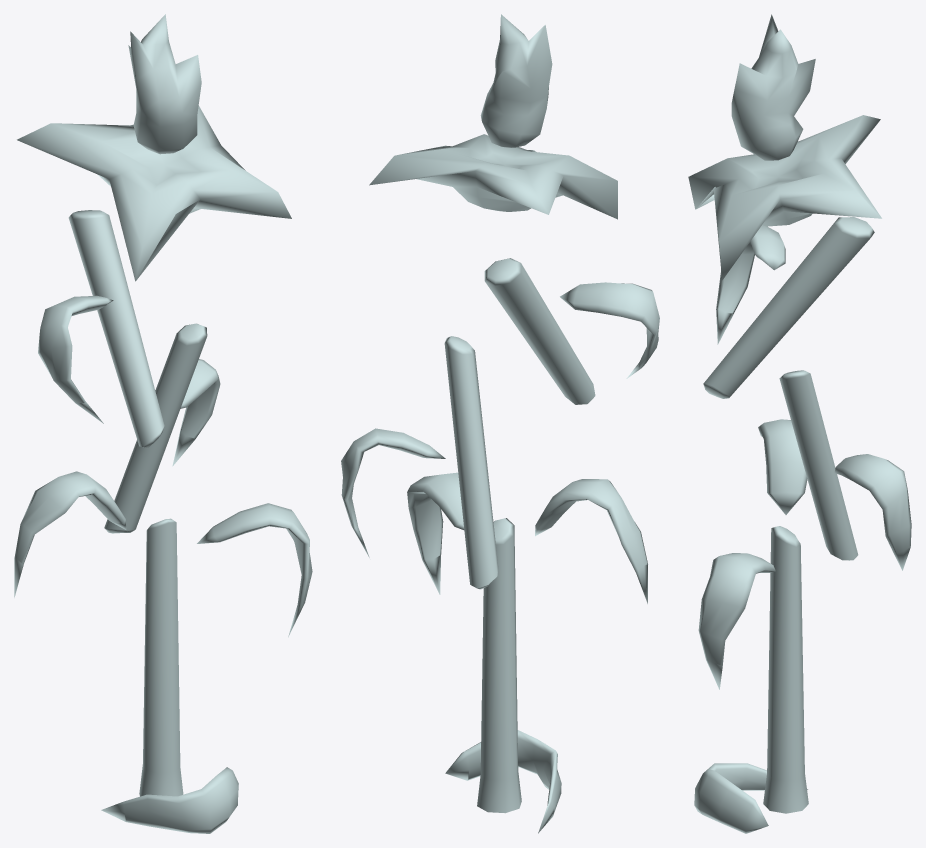
Rendered from cometPlant_stage4.fbx.
3 views of the same model, side by side, from view 1: azimuth 30°, elevation 25°; view 2: azimuth 150°, elevation 25°; view 3: azimuth 270°, elevation 25° (orthographic).
Visible parts, largest first — view 1: rotting_comet_stem, rotting_comet_openPod, rotting_comet_fruit, rotting_comet_leaf5, rotting_comet_leaf1, rotting_comet_leaf4, rotting_comet_leaf2, rotting_comet_leaf3; view 2: rotting_comet_stem, rotting_comet_openPod, rotting_comet_fruit, rotting_comet_leaf2, rotting_comet_leaf1, rotting_comet_leaf4, rotting_comet_leaf5, rotting_comet_leaf3; view 3: rotting_comet_stem, rotting_comet_openPod, rotting_comet_fruit, rotting_comet_leaf2, rotting_comet_leaf5, rotting_comet_leaf3, rotting_comet_leaf1, rotting_comet_leaf4.
Part boxes in pixels (<box>): rotting_comet_stem: <box>68,210,207,796</box>; rotting_comet_openPod: <box>17,105,291,281</box>; rotting_comet_fruit: <box>128,14,201,154</box>; rotting_comet_leaf5: <box>101,767,238,833</box>; rotting_comet_leaf1: <box>14,471,126,597</box>; rotting_comet_leaf4: <box>38,295,113,423</box>; rotting_comet_leaf2: <box>197,503,312,637</box>; rotting_comet_leaf3: <box>172,359,220,466</box>; rotting_comet_stem: <box>444,258,595,813</box>; rotting_comet_openPod: <box>369,134,617,219</box>; rotting_comet_fruit: <box>480,14,552,147</box>; rotting_comet_leaf2: <box>407,472,464,594</box>; rotting_comet_leaf1: <box>535,479,647,603</box>; rotting_comet_leaf4: <box>560,282,659,378</box>; rotting_comet_leaf5: <box>445,730,561,833</box>; rotting_comet_leaf3: <box>341,428,445,557</box>; rotting_comet_stem: <box>703,217,874,813</box>; rotting_comet_openPod: <box>688,115,881,280</box>; rotting_comet_fruit: <box>731,14,815,160</box>; rotting_comet_leaf2: <box>698,553,775,689</box>; rotting_comet_leaf5: <box>694,763,807,833</box>; rotting_comet_leaf3: <box>834,454,911,570</box>; rotting_comet_leaf1: <box>758,419,807,514</box>; rotting_comet_leaf4: <box>716,225,785,344</box>.
Size of the model in its own units: 39.09 by 112 by 28.97.
